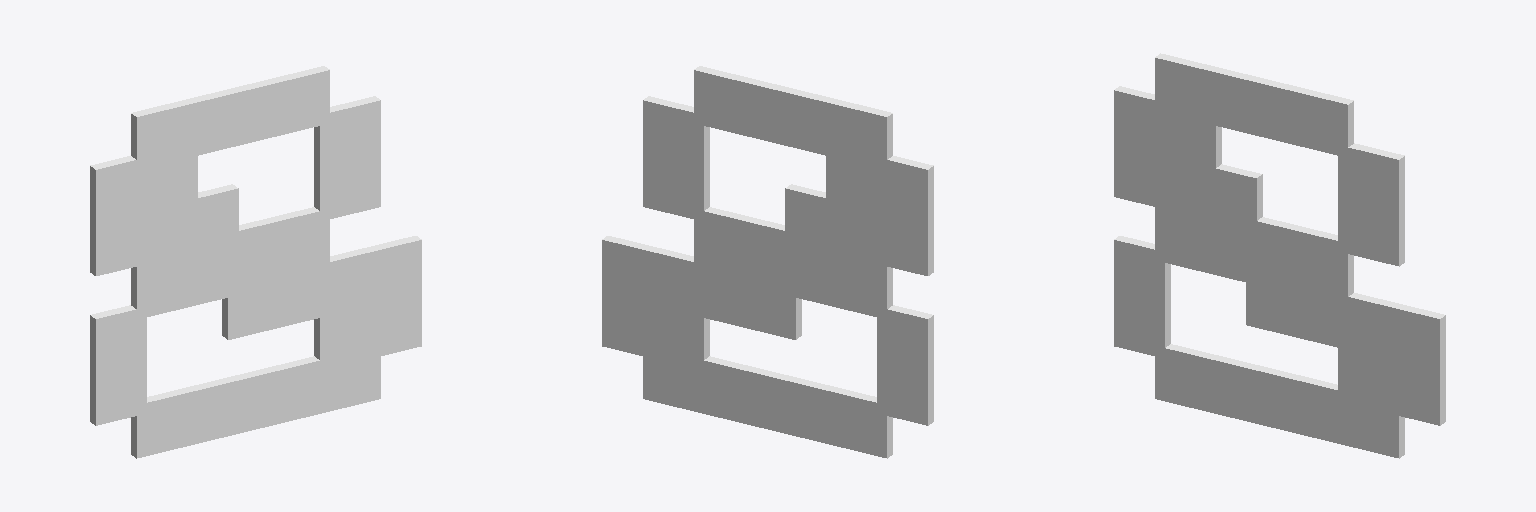
The picture shows the model from 3 angles: view 1: azimuth 30°, elevation 25°; view 2: azimuth 150°, elevation 25°; view 3: azimuth 330°, elevation 25°; orthographic projection.
Visible parts, largest first — view 1: ch_8_32; view 2: ch_8_32; view 3: ch_8_32.
Boxes of the visible parts, x1,y1,x2,y2 form: ch_8_32: [90, 66, 421, 458]; ch_8_32: [602, 66, 933, 458]; ch_8_32: [1114, 53, 1445, 458].
Size of the model in its own units: 32 by 32 by 1.